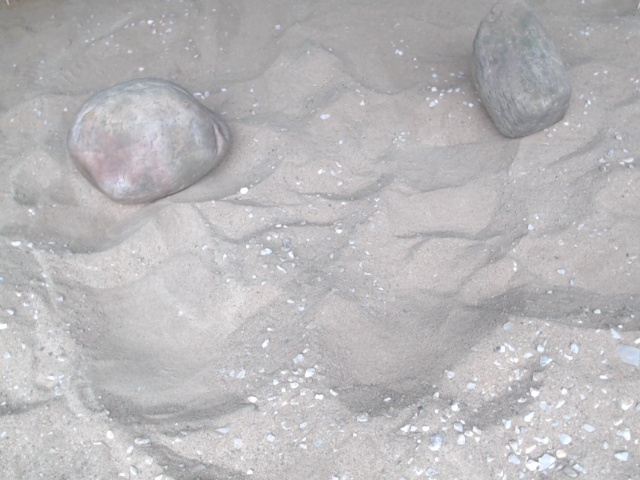rock: (62, 74, 236, 209), (466, 1, 575, 144)
